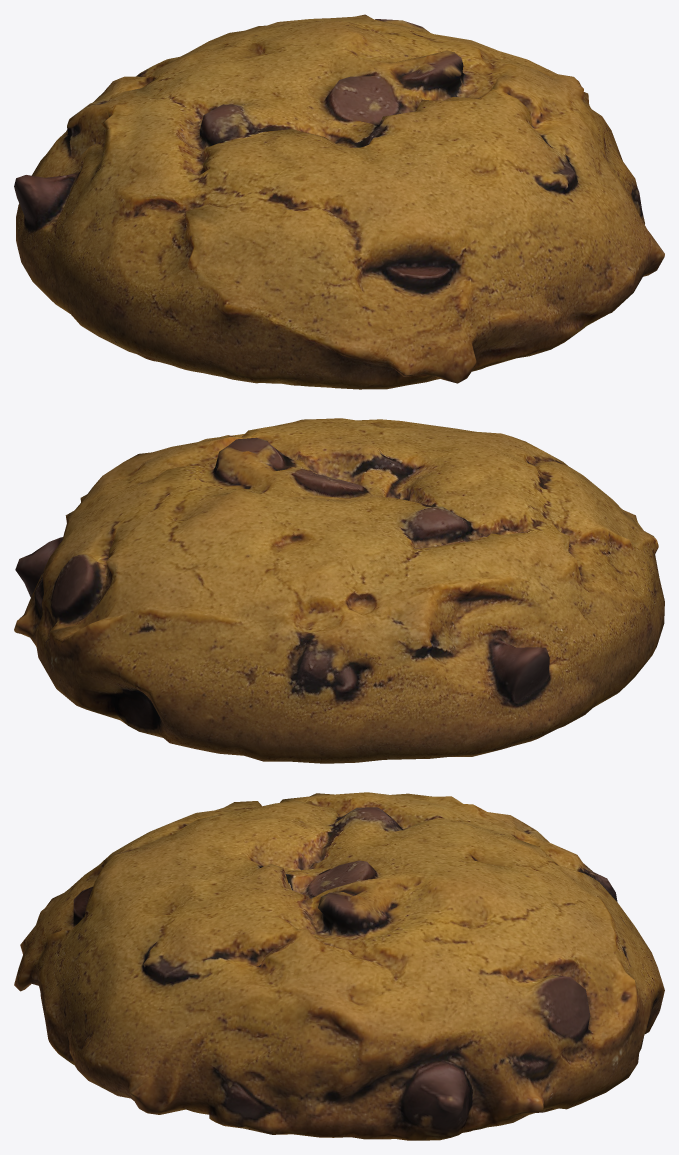
File: chocolate_cookie_3d_scan.glb
3 views of the same model, one above another, from view 1: azimuth 30°, elevation 25°; view 2: azimuth 150°, elevation 25°; view 3: azimuth 270°, elevation 25° (orthographic). The views are drawn at different scales.
Visible parts, largest first — view 1: chocolate_cookie_01_highres1; view 2: chocolate_cookie_01_highres1; view 3: chocolate_cookie_01_highres1.
Part boxes in pixels (box(x1,y1,x2,y2)): chocolate_cookie_01_highres1: box(14, 14, 664, 389); chocolate_cookie_01_highres1: box(14, 418, 664, 763); chocolate_cookie_01_highres1: box(14, 792, 664, 1140).
Size of the model in its own units: 0.1219 by 0.0373 by 0.1265.
Materials: 1 (1 with a texture image).
